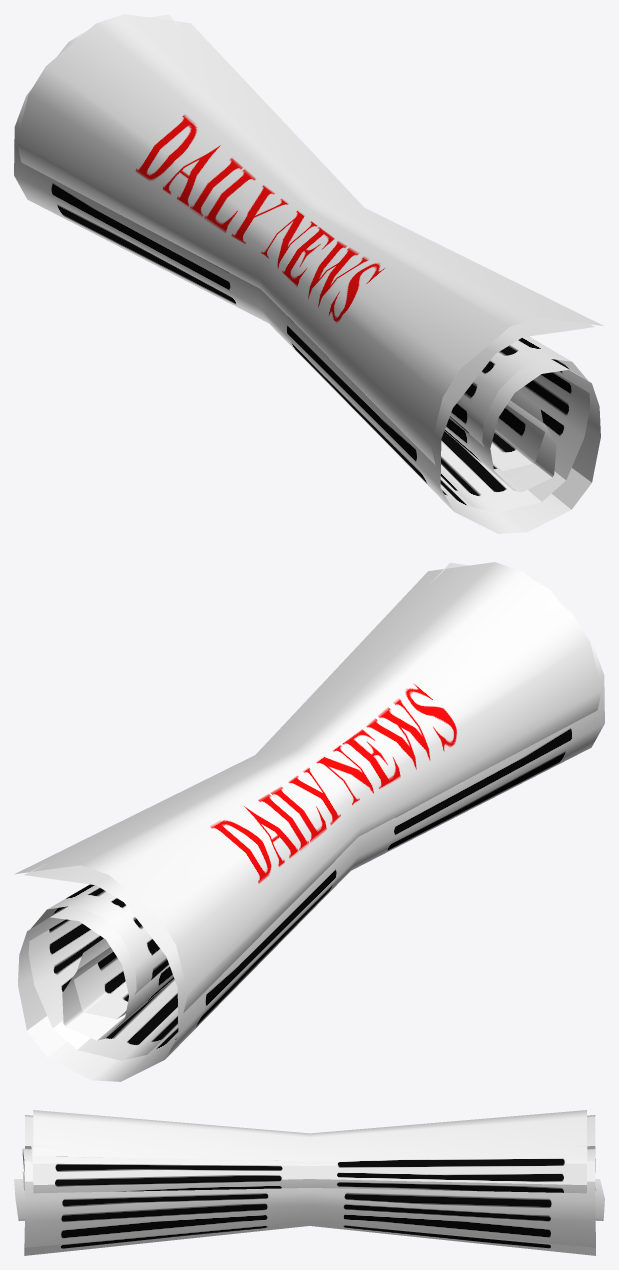
File: PaperRoll.fbx
3 renders of one model, top to bottom at view 1: azimuth 30°, elevation 25°; view 2: azimuth 150°, elevation 25°; view 3: azimuth 270°, elevation 25°, orthographic. The views are drawn at different scales.
Visible parts, largest first — view 1: pPlane3; view 2: pPlane3; view 3: pPlane3.
Boxes of the visible parts, bbox=[...] form: pPlane3: bbox=[14, 14, 604, 533]; pPlane3: bbox=[14, 562, 604, 1081]; pPlane3: bbox=[14, 1110, 604, 1255].
Size of the model in its own units: 1.11 by 1.26 by 4.89.
